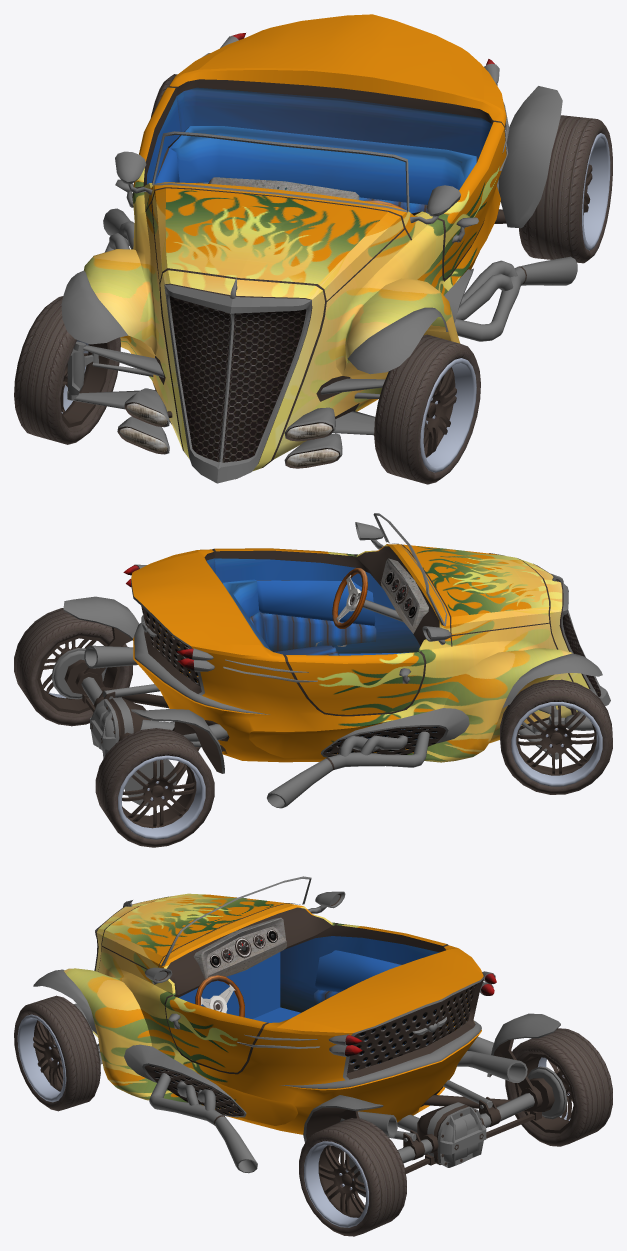
The model's file is calssic_race_car.glb.
3 views of the same model, one above another, from view 1: azimuth 30°, elevation 25°; view 2: azimuth 150°, elevation 25°; view 3: azimuth 270°, elevation 25° (orthographic). The views are drawn at different scales.
Visible parts, largest first — view 1: node_id481, node_id489, node_id485, node_id477, node_id487, node_id458, node_id451, node_id406, node_id472, node_id420, node_id474, node_id447 (+11 smaller); view 2: node_id481, node_id489, node_id477, node_id420, node_id487, node_id461, node_id468, node_id465, node_id406, node_id458, node_id472, node_id479 (+15 smaller); view 3: node_id481, node_id489, node_id487, node_id479, node_id477, node_id420, node_id458, node_id465, node_id454, node_id451, node_id401, node_id447 (+14 smaller).
Boxes of the visible parts, x1,y1,x2,y2 form: node_id481: (84,14,506,471); node_id489: (147,87,491,213); node_id485: (169,296,306,462); node_id477: (61,102,509,483); node_id487: (132,79,506,479); node_id458: (519,115,605,263); node_id451: (374,334,475,484); node_id406: (497,86,562,228); node_id472: (14,296,81,444); node_id420: (103,208,577,341); node_id474: (67,341,385,435); node_id447: (420,358,476,472); node_id481: (131,544,588,762); node_id489: (206,558,436,752); node_id477: (131,553,610,757); node_id420: (84,641,429,808); node_id487: (144,544,590,751); node_id461: (118,755,205,839); node_id468: (511,701,602,786); node_id465: (95,728,214,847); node_id406: (51,596,159,704); node_id458: (14,608,132,726); node_id472: (500,679,612,794); node_id479: (141,606,445,756); node_id481: (64,893,483,1134); node_id489: (152,936,439,1101); node_id487: (95,896,483,1106); node_id479: (144,984,476,1116); node_id477: (33,897,483,1117); node_id420: (149,1037,527,1173); node_id458: (299,1118,406,1236); node_id465: (512,1028,612,1146); node_id454: (304,1141,368,1227); node_id451: (17,995,100,1111); node_id401: (443,1013,567,1127); node_id447: (17,1014,66,1102).
Size of the model in its own units: 0.8236 by 0.2938 by 0.8139.
44 materials, 44 textured.
